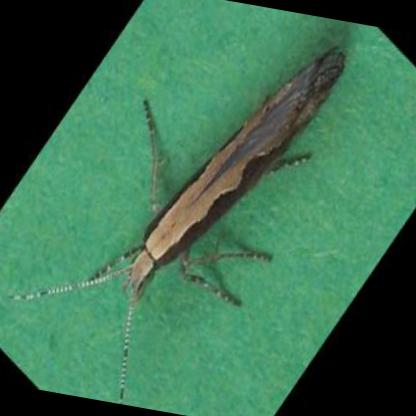plutella: (0, 38, 350, 402)
